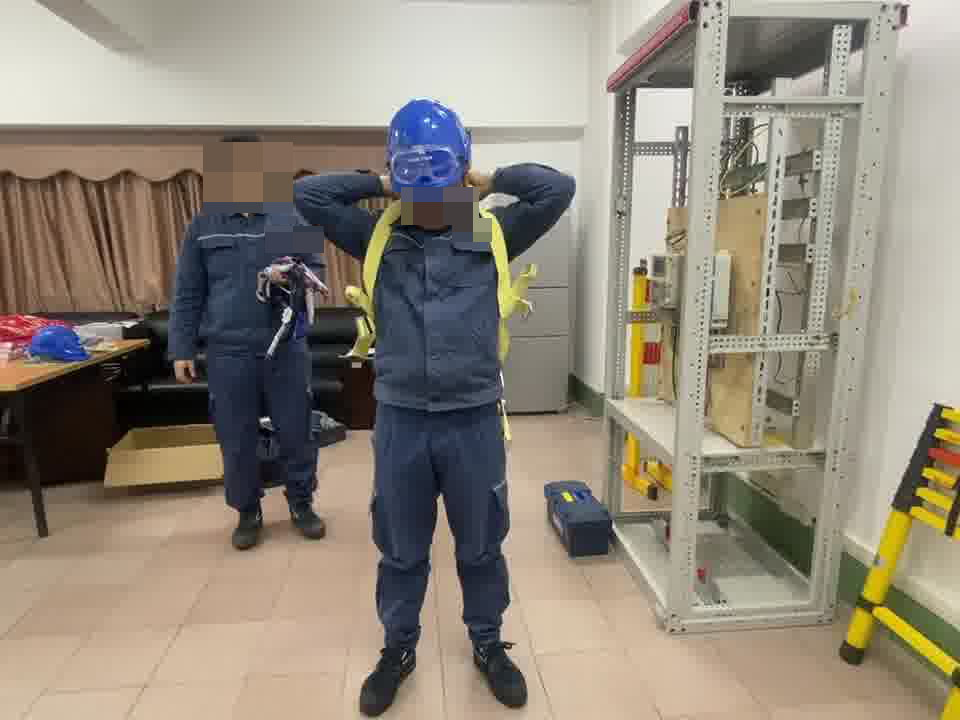downsuit: (366, 424, 518, 649), (207, 363, 317, 510)
halt: (384, 98, 474, 211)
hand: (461, 172, 491, 200), (173, 360, 198, 382)
noear: (216, 148, 257, 190)
person: (334, 94, 558, 716), (167, 128, 330, 545)
unhalt: (215, 131, 275, 208)
upsuit: (289, 160, 576, 407), (173, 201, 324, 358)
